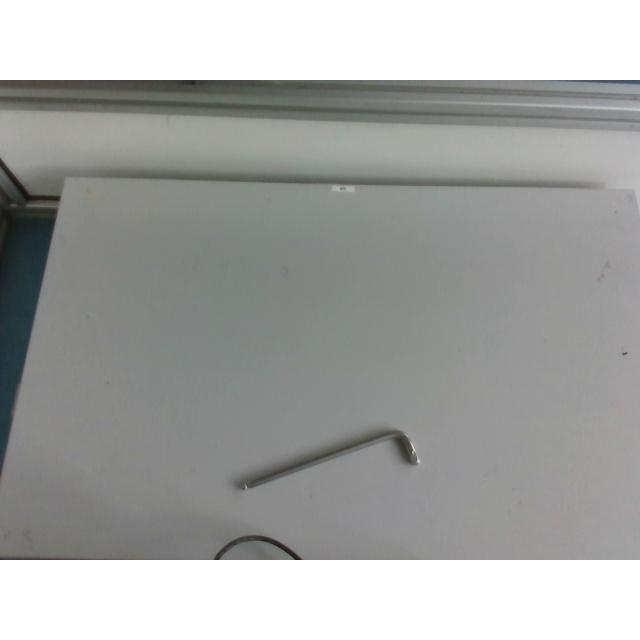AllenKey: (243, 429, 422, 489)
